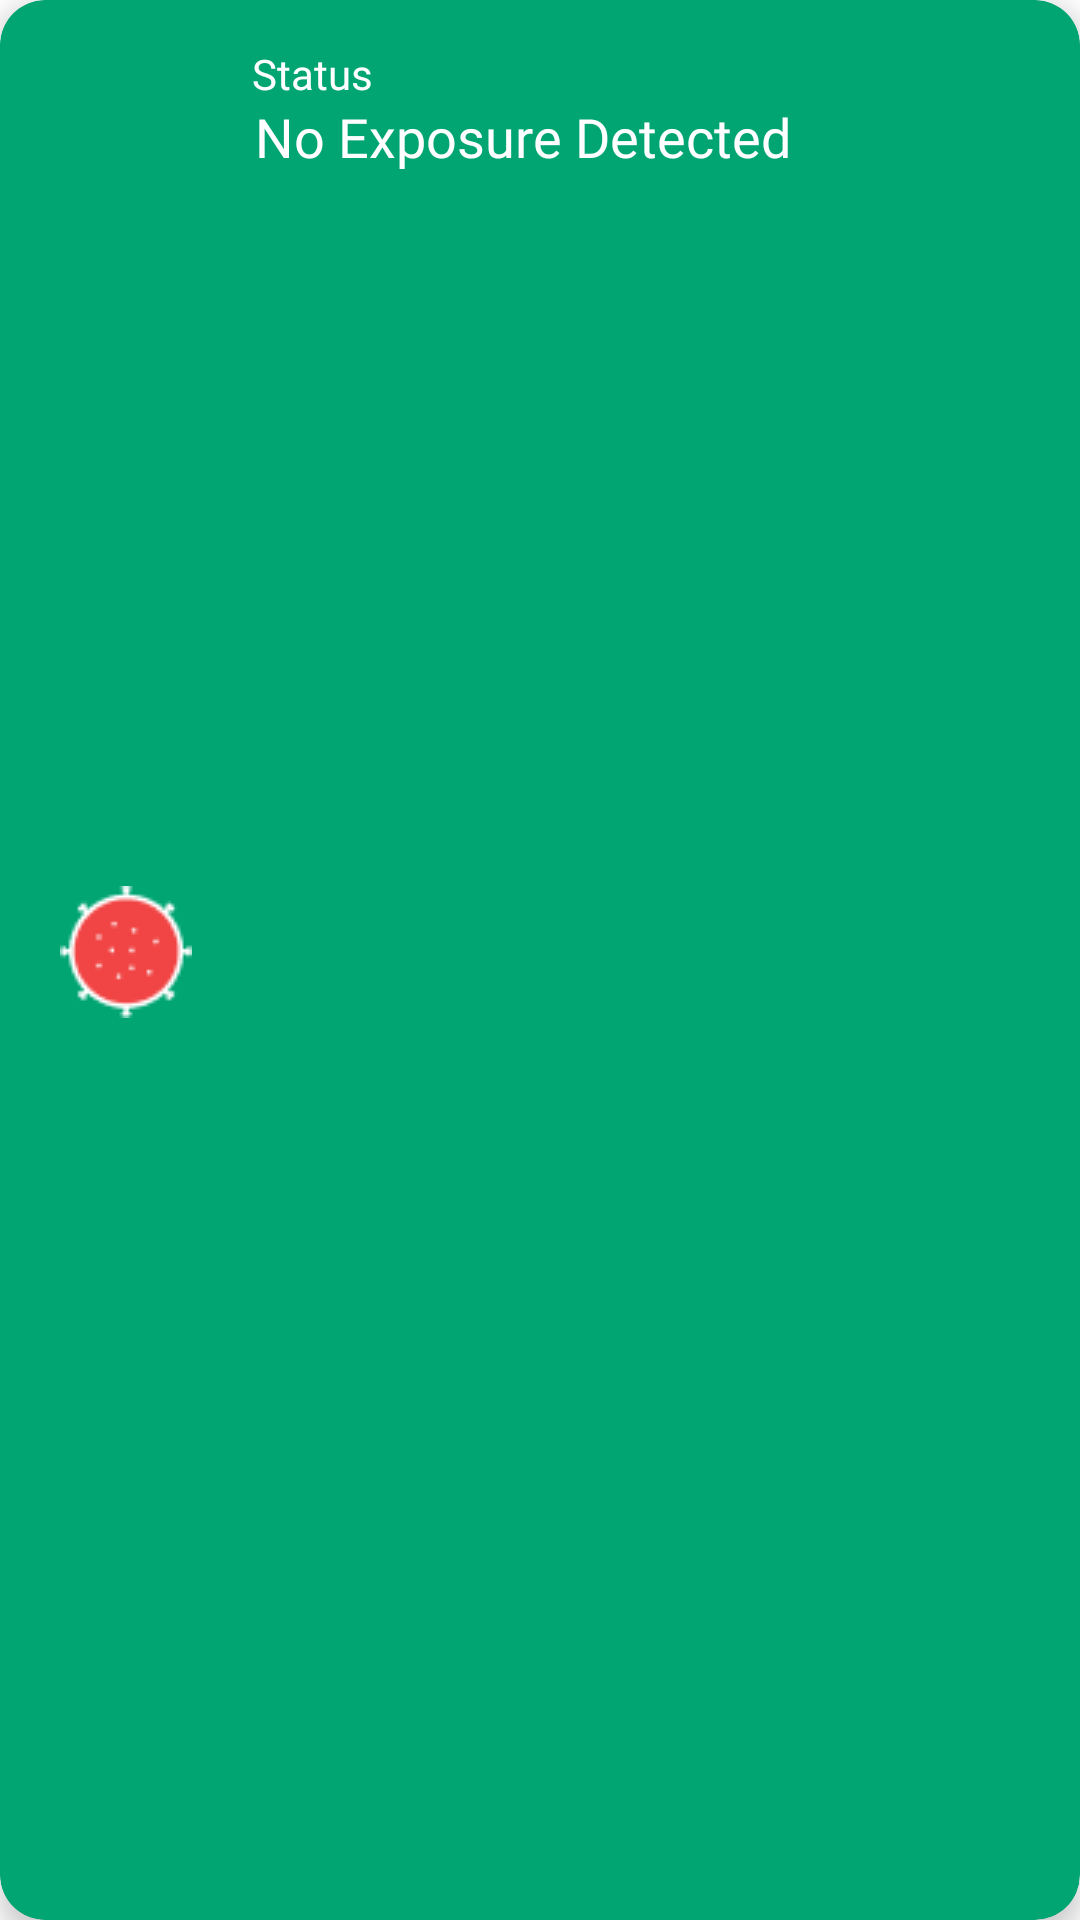

Screen size 1080px×1920px. Icon name, then its box in pixels as [x1,y1,x2,y2]:
risk: [60,886,192,1018]
